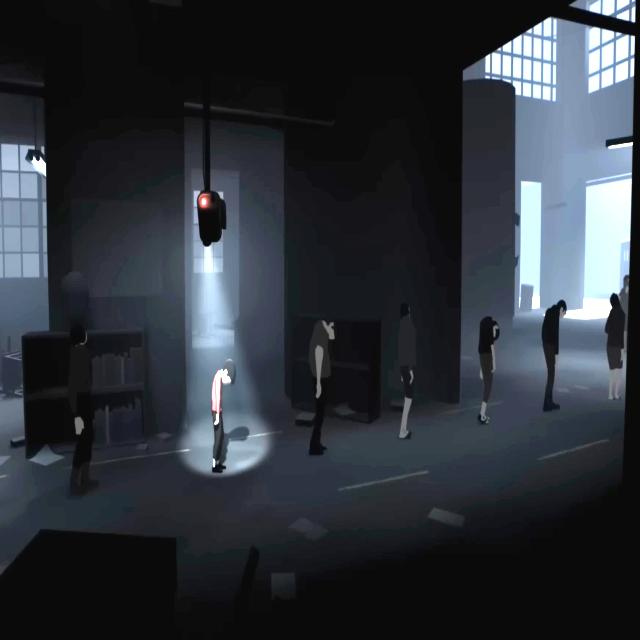boy: (212, 359, 236, 473)
zombie: (69, 323, 99, 495), (308, 319, 339, 456), (542, 300, 566, 412), (398, 304, 417, 439), (477, 316, 500, 424), (605, 292, 626, 400)
